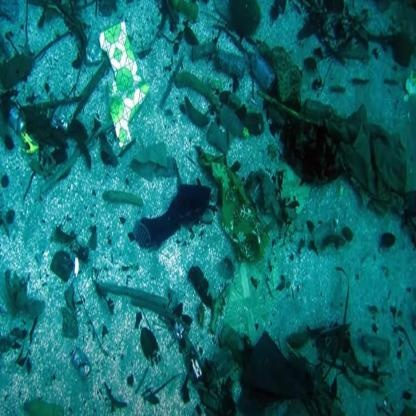plastic: (90, 27, 167, 169), (209, 152, 274, 270)
